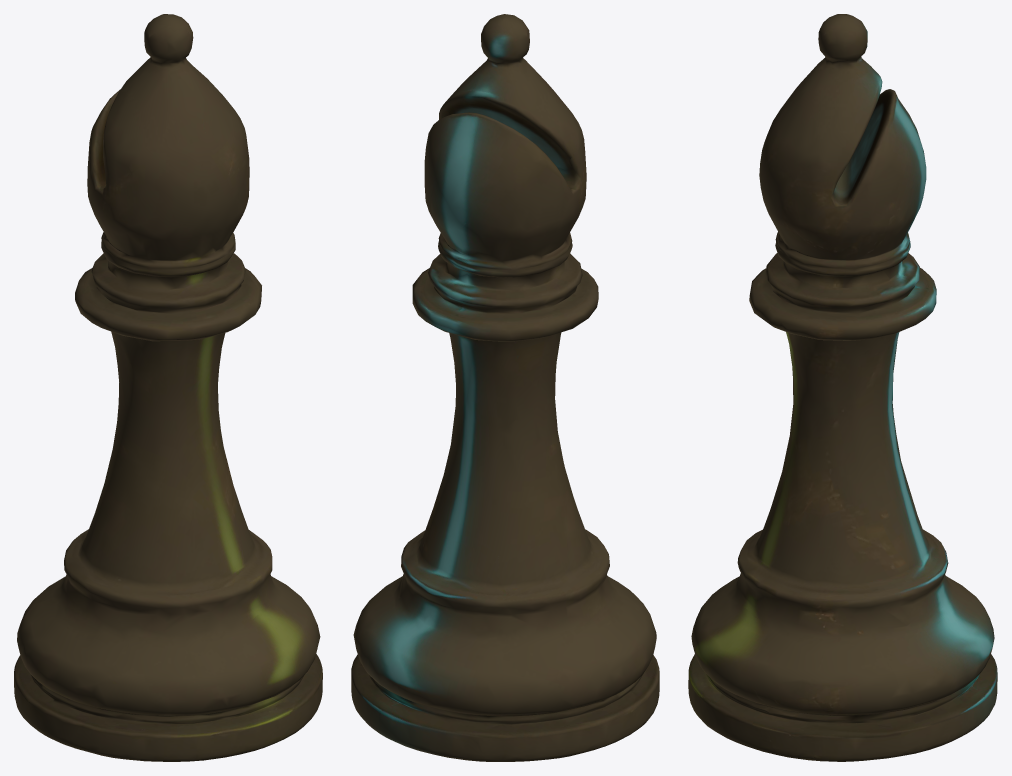
File: bishop.glb
3 renders of one model, left to right at view 1: azimuth 30°, elevation 25°; view 2: azimuth 150°, elevation 25°; view 3: azimuth 270°, elevation 25°, orthographic.
Visible parts, largest first — view 1: tripo_node_9fea8633-3adf-4ae0-a372-7ed0c51110c3; view 2: tripo_node_9fea8633-3adf-4ae0-a372-7ed0c51110c3; view 3: tripo_node_9fea8633-3adf-4ae0-a372-7ed0c51110c3.
Boxes of the visible parts, <box> form: tripo_node_9fea8633-3adf-4ae0-a372-7ed0c51110c3: <box>14,14,322,761</box>; tripo_node_9fea8633-3adf-4ae0-a372-7ed0c51110c3: <box>351,14,659,761</box>; tripo_node_9fea8633-3adf-4ae0-a372-7ed0c51110c3: <box>688,14,997,761</box>.
Size of the model in its own units: 0.4102 by 1 by 0.4095.
1 material, 1 textured.
